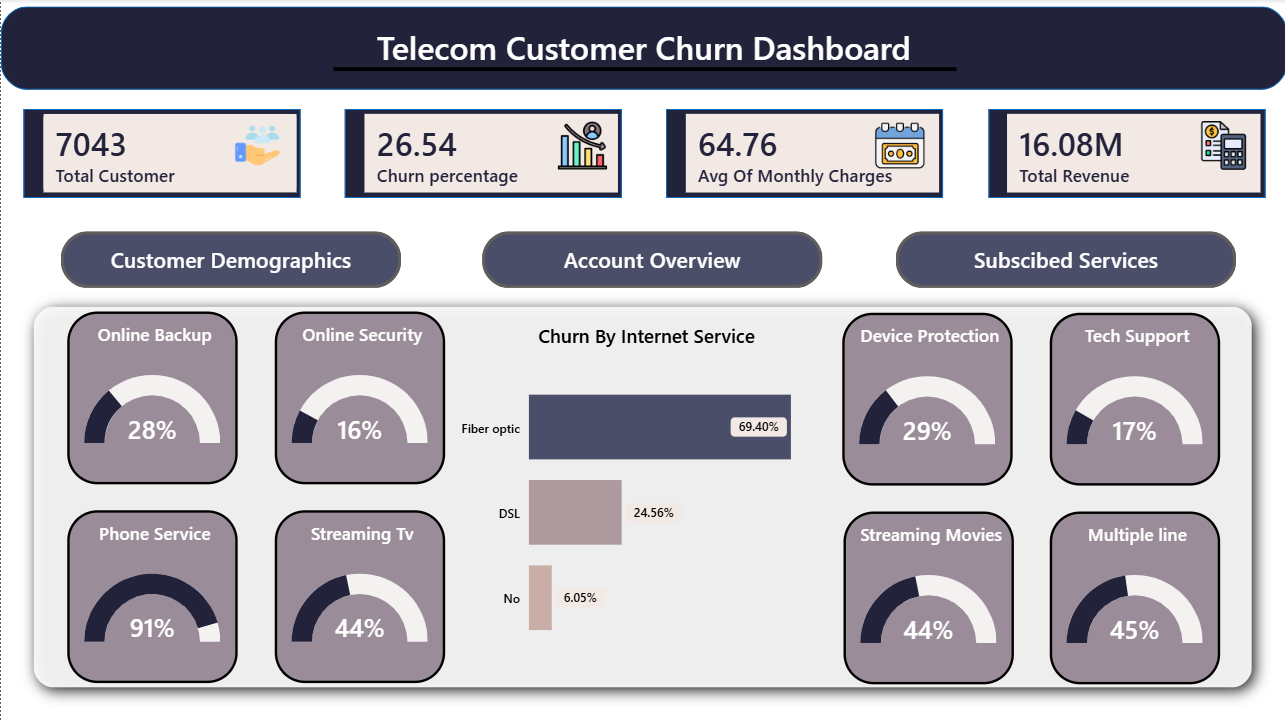

This screenshot's page, from the dashboard's own definition file:
{"tool":"powerbi","page":{"name":"Dashboard","canvas":[1280,720],"ordinal":0},"visuals":[{"type":"shape","box":[0,7.5,1280,82.9],"z":0,"group":"g8"},{"type":"textbox","box":[245.7,21.8,787.1,55.7],"z":0,"group":"g3"},{"type":"group","id":"g1","title":"Group 2","box":[22.1,110,1235.7,88.6],"z":0,"group":"g7"},{"type":"shape","box":[22.1,110,275.7,88.6],"z":0,"group":"g1"},{"type":"group","id":"g2","title":"Group 5","box":[14.3,287.1,1250,415.7],"z":0},{"type":"shape","box":[14.3,287.1,1250,415.7],"z":0,"group":"g2"},{"type":"barChart","title":"Churn By Tenure Group","fields":{"Category":["public customer.Tenure Group"],"Y":["CountNonNull(public customer.Churn)"]},"box":[901.4,317.5,338.6,345.8],"z":0,"group":"g5"},{"type":"group","id":"g3","title":"Group 3","box":[245.7,21.8,787.1,68.6],"z":1000,"group":"g8"},{"type":"shape","box":[330,50.4,620,40],"z":1000,"group":"g3"},{"type":"group","id":"g4","title":"Group 3","box":[37,110,1221.4,88.6],"z":1000,"group":"g7"},{"type":"cardVisual","fields":{"Data":["Count(public customer.Customer_id)"]},"box":[37,110,262,88.6],"z":1000,"group":"g4"},{"type":"shape","box":[662.1,110,275.7,88.6],"z":1000,"group":"g1"},{"type":"group","id":"g5","title":"Group 4","box":[40,317.5,1200,345.8],"z":1000,"group":"g2"},{"type":"card","fields":{"Values":["public customer.dependents_percentage"]},"box":[663.2,361.2,221.4,108.2],"z":1000,"group":"g5"},{"type":"shape","box":[982.1,110,275.7,88.6],"z":2000,"group":"g1"},{"type":"card","fields":{"Values":["public customer.senior_citizen_percentage"]},"box":[416.1,361.2,221.4,108.2],"z":2000,"group":"g5"},{"type":"shape","box":[342.1,110,275.7,88.6],"z":3000,"group":"g1"},{"type":"group","id":"g6","title":"Group 4","box":[225,121.4,1021.4,50],"z":3000,"group":"g7"},{"type":"actionButton","box":[59.7,231.4,338.4,56],"z":3000},{"type":"card","fields":{"Values":["public customer.partner_percentage"]},"box":[536.7,510,221.7,108.3],"z":3000,"group":"g5"},{"type":"cardVisual","fields":{"Data":["Avg(public customer.Monthly_charges)"]},"box":[676.4,110,262,88.6],"z":4000,"group":"g4"},{"type":"actionButton","box":[890.7,231.4,338.4,56],"z":4000},{"type":"donutChart","title":"Churn Customer By Gender","fields":{"Category":["public customer.Gender"],"Y":["CountNonNull(public customer.Customer_id)"]},"box":[40,317.5,331.4,345.8],"z":4000,"group":"g5"},{"type":"cardVisual","fields":{"Data":["Sum(public customer.Total_charges)"]},"box":[996.4,110,262,88.6],"z":5000,"group":"g4"},{"type":"actionButton","box":[478.9,231.4,338.4,56],"z":5000},{"type":"group","id":"g7","title":"Group 5","box":[22.1,110,1236.3,88.6],"z":6000},{"type":"cardVisual","fields":{"Data":["public customer.Churn percentage"]},"box":[356.4,110,262,88.6],"z":6000,"group":"g4"},{"type":"image","box":[225,121.4,60,50],"z":6500,"group":"g6"},{"type":"group","id":"g8","title":"Group 6","box":[0,7.5,1280,82.5],"z":7000},{"type":"image","box":[547.9,121.4,60,50],"z":7000,"group":"g6"},{"type":"image","box":[1186.4,121.4,60,50],"z":7500,"group":"g6"},{"type":"image","box":[865,121.4,60,50],"z":8000,"group":"g6"}]}

Visuals, with their boxes in screenshot pixels (x1, y1, x2, y2), scaled from the page's 1280x720 canvas onto the 1285x722 screenshot:
shape: 0 8 1284 91
textbox: 247 22 1037 78
"Group 2" group: 22 110 1263 199
shape: 22 110 299 199
"Group 5" group: 14 288 1269 705
shape: 14 288 1269 705
"Churn By Tenure Group" barChart: 905 318 1245 665
"Group 3" group: 247 22 1037 91
shape: 331 51 954 91
"Group 3" group: 37 110 1263 199
cardVisual - Count(public customer.Customer_id): 37 110 300 199
shape: 665 110 941 199
"Group 4" group: 40 318 1245 665
card - public customer.dependents_percentage: 666 362 888 471
shape: 986 110 1263 199
card - public customer.senior_citizen_percentage: 418 362 640 471
shape: 343 110 620 199
"Group 4" group: 226 122 1251 172
actionButton: 60 232 400 288
card - public customer.partner_percentage: 539 511 761 620
cardVisual - Avg(public customer.Monthly_charges): 679 110 942 199
actionButton: 894 232 1234 288
"Churn Customer By Gender" donutChart: 40 318 373 665
cardVisual - Sum(public customer.Total_charges): 1000 110 1263 199
actionButton: 481 232 820 288
"Group 5" group: 22 110 1263 199
cardVisual - public customer.Churn percentage: 358 110 621 199
image: 226 122 286 172
"Group 6" group: 0 8 1284 90
image: 550 122 610 172
image: 1191 122 1251 172
image: 868 122 929 172
